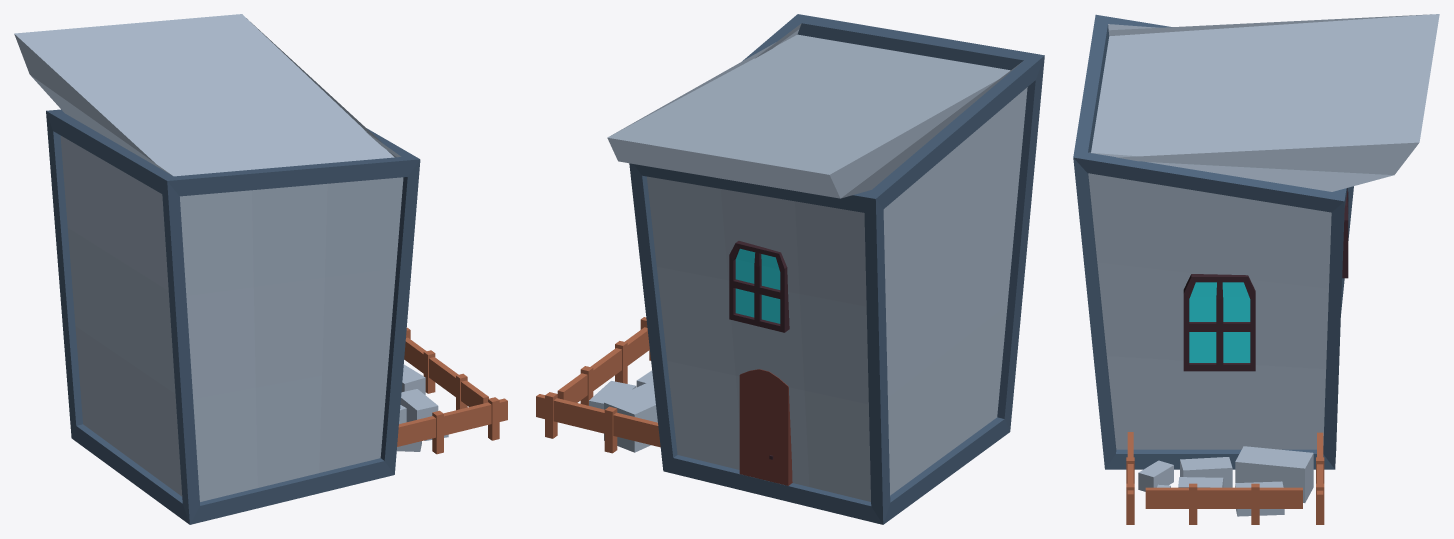
Rendered from quarry.fbx.
3 views of the same model, side by side, from view 1: azimuth 30°, elevation 25°; view 2: azimuth 150°, elevation 25°; view 3: azimuth 270°, elevation 25° (orthographic). The views are drawn at different scales.
Visible parts, largest first — view 1: Cube, poziom.005, poziom.004, Cube.019; view 2: Cube, Cube.027, Cube.016, poziom.003, poziom.004, Cube.018, Cube.020; view 3: Cube, Cube.001, poziom.004, Cube.018, Cube.021, Cube.023, Cube.020, poziom.005, poziom.003, Cube.016, Cube.019.
Part boxes in pixels (x1,y1,x2,y2): Cube: [14, 14, 420, 524]; poziom.005: [397, 398, 507, 446]; poziom.004: [404, 337, 488, 406]; Cube.019: [400, 389, 438, 421]; Cube: [607, 14, 1044, 524]; Cube.027: [739, 369, 792, 485]; Cube.016: [729, 241, 789, 332]; poziom.003: [536, 394, 660, 447]; poziom.004: [557, 327, 649, 402]; Cube.018: [604, 380, 657, 452]; Cube.020: [589, 381, 636, 409]; Cube: [1073, 14, 1439, 469]; Cube.001: [1183, 274, 1255, 371]; poziom.004: [1145, 487, 1302, 508]; Cube.018: [1235, 446, 1313, 502]; Cube.021: [1180, 457, 1232, 487]; Cube.023: [1138, 460, 1173, 491]; Cube.020: [1235, 481, 1284, 516]; poziom.005: [1127, 432, 1133, 513]; poziom.003: [1317, 432, 1323, 513]; Cube.016: [1342, 188, 1348, 278]; Cube.019: [1178, 477, 1223, 487].
Bounding box in the file's own units: 6.45 × 6.33 × 5.89.
